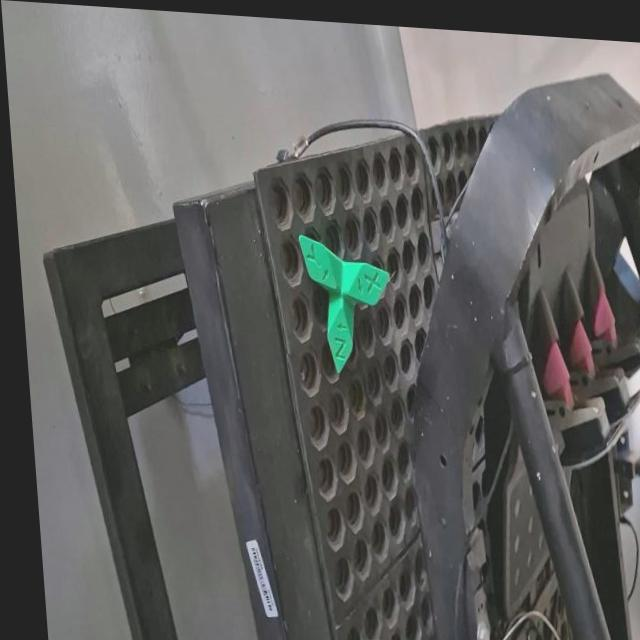eje: (296, 233, 398, 379)
